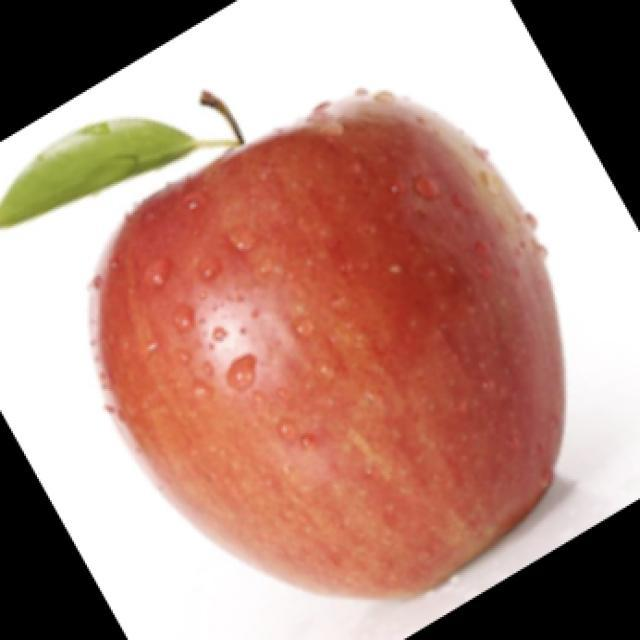Fresh Apple: (114, 110, 564, 592)
